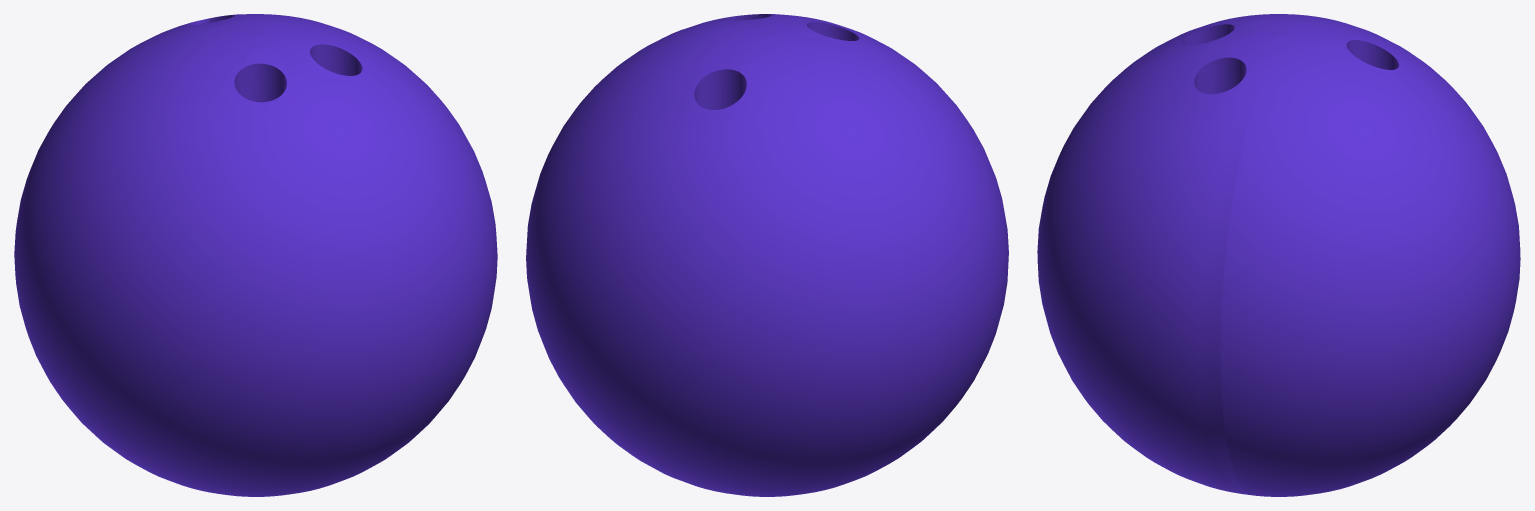
The model's file is bowling_ball.glb.
The picture shows the model from 3 angles, left to right: view 1: azimuth 30°, elevation 25°; view 2: azimuth 150°, elevation 25°; view 3: azimuth 270°, elevation 25°; orthographic projection.
Visible parts, largest first — view 1: Object_22; view 2: Object_22; view 3: Object_22.
Boxes of the visible parts, box(x1,y1,x2,y2) form: Object_22: box(14, 14, 497, 496); Object_22: box(526, 14, 1008, 496); Object_22: box(1037, 14, 1520, 496).
Size of the model in its own units: 41.2 by 41.23 by 41.2.
